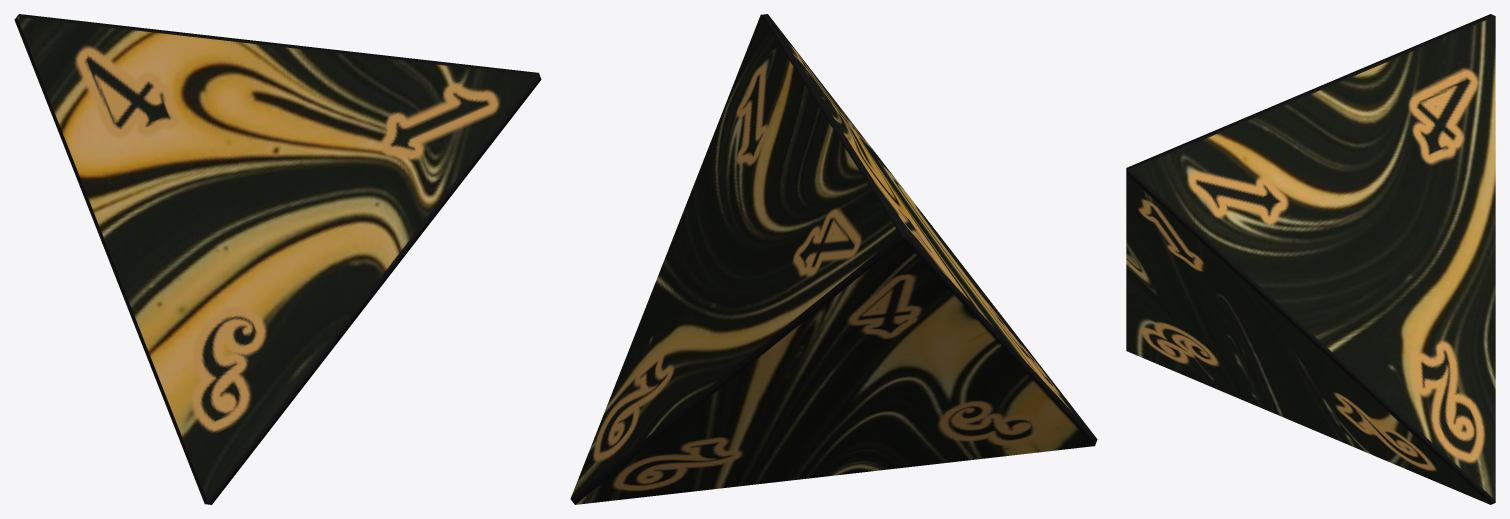
The model's file is liquidgold_d4.glb.
3 renders of one model, left to right at view 1: azimuth 30°, elevation 25°; view 2: azimuth 150°, elevation 25°; view 3: azimuth 270°, elevation 25°, orthographic. The views are drawn at different scales.
Visible parts, largest first — view 1: Mesh_0; view 2: Mesh_0; view 3: Mesh_0.
Boxes of the visible parts, x1,y1,x2,y2 form: Mesh_0: (14, 14, 541, 504); Mesh_0: (570, 14, 1097, 504); Mesh_0: (1126, 14, 1495, 504).
Size of the model in its own units: 135 by 135 by 135.
1 material, 1 textured.
